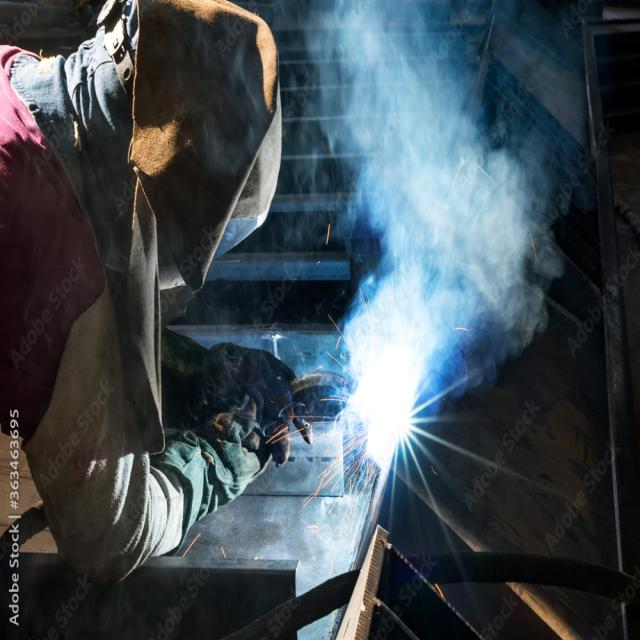welding: (362, 381, 414, 448)
